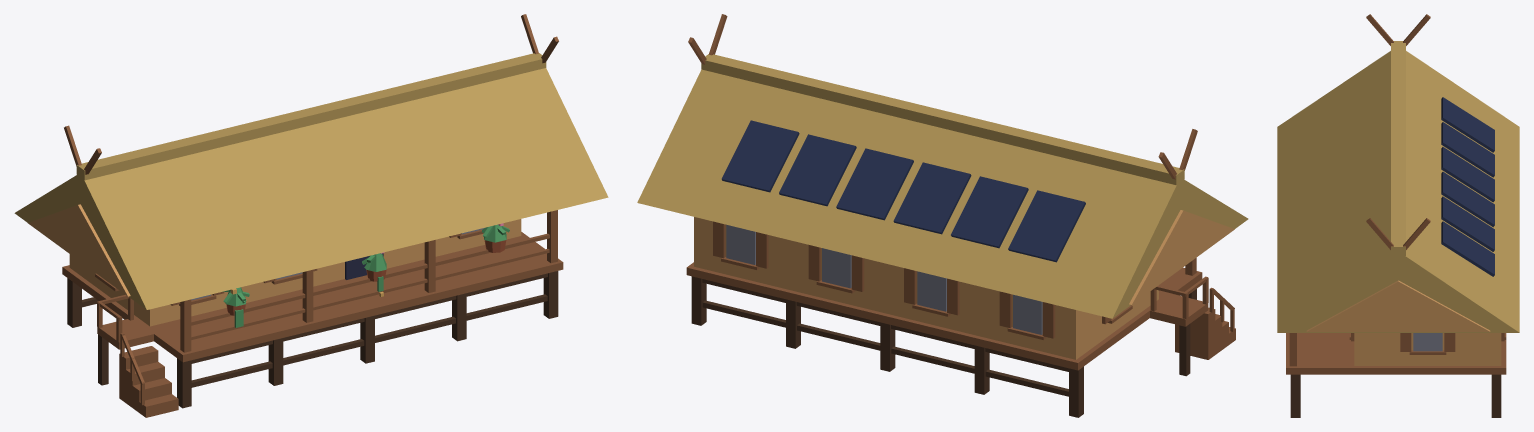
File: house-2x1-1f-stilt-a-solar.glb
The picture shows the model from 3 angles, left to right: view 1: azimuth 30°, elevation 25°; view 2: azimuth 150°, elevation 25°; view 3: azimuth 270°, elevation 25°; orthographic projection. The views are drawn at different scales.
Visible parts, largest first — view 1: house-2x1-1f-stilt-a-solar; view 2: house-2x1-1f-stilt-a-solar; view 3: house-2x1-1f-stilt-a-solar.
Part boxes in pixels (x1,y1,x2,y2): house-2x1-1f-stilt-a-solar: (14,14,608,417); house-2x1-1f-stilt-a-solar: (637,14,1248,417); house-2x1-1f-stilt-a-solar: (1277,14,1519,417).
Bounding box in the file's own units: 2.01 × 0.9803 × 0.99.
Materials: 1 (1 with a texture image).
